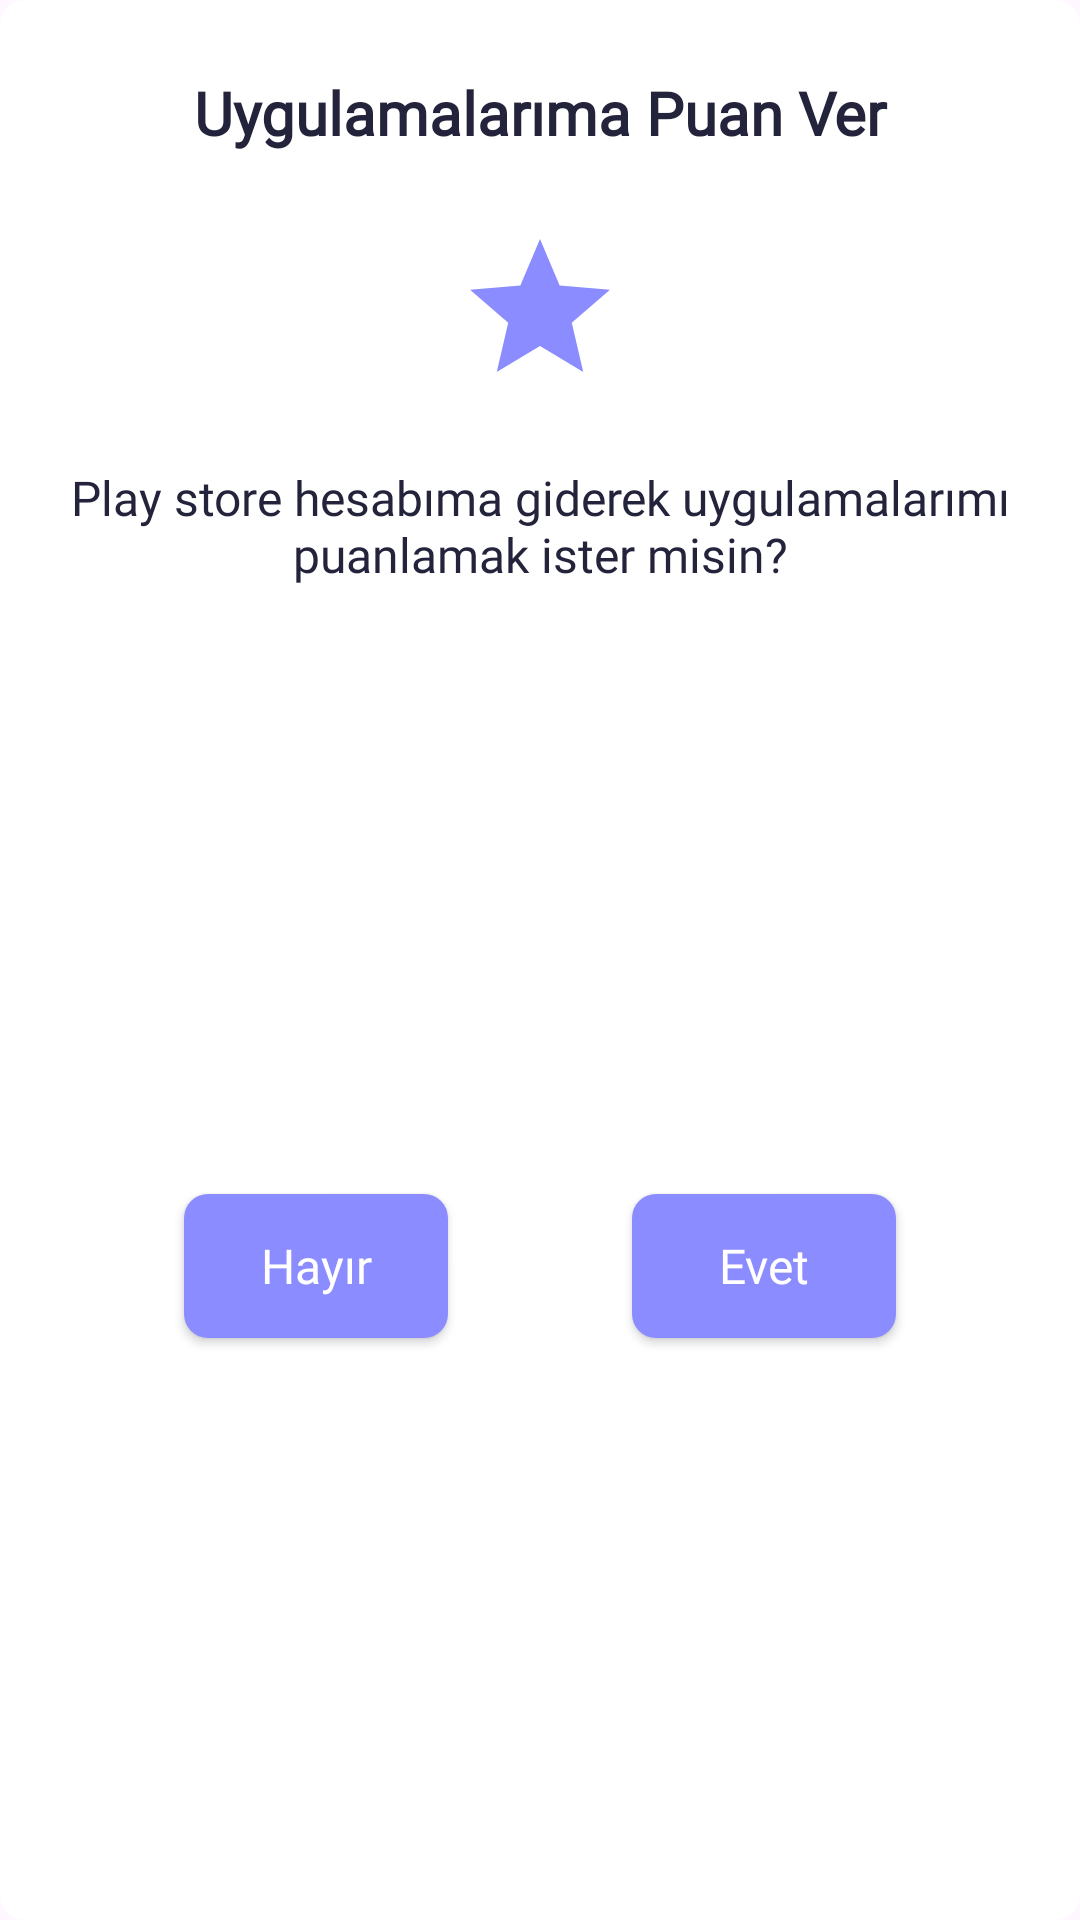

Icons on this 1080x1920 Android screen, each with its box as (x1, y1, x2, y2):
star: (470, 240, 610, 372)
